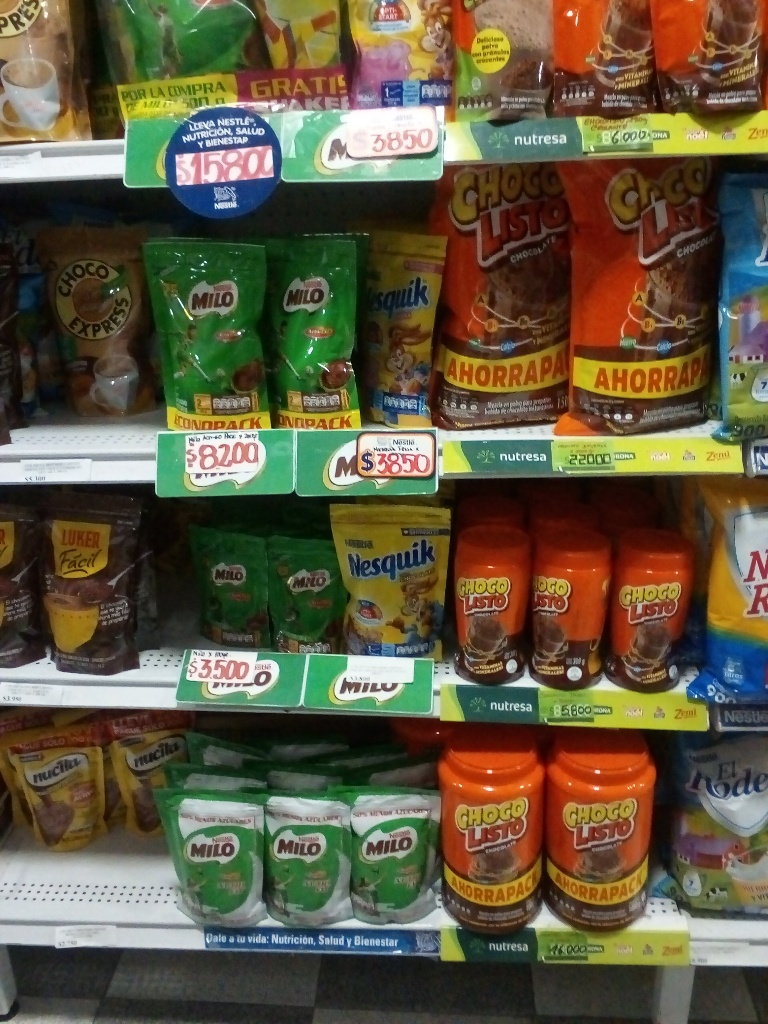COL0170103DYP1,500: (434, 164, 575, 431)
COL0170103TRR00100: (433, 727, 547, 935)
COL0170103TRR30000: (449, 529, 528, 684)
COL0170203DYP10000: (266, 538, 343, 655)
COL0170203DYP25000: (264, 236, 363, 433)
COL0170205DYP20000: (157, 797, 267, 927)
COL0170303DYP20000: (328, 501, 447, 660)
COL0170305DYP20000: (357, 229, 444, 428)
